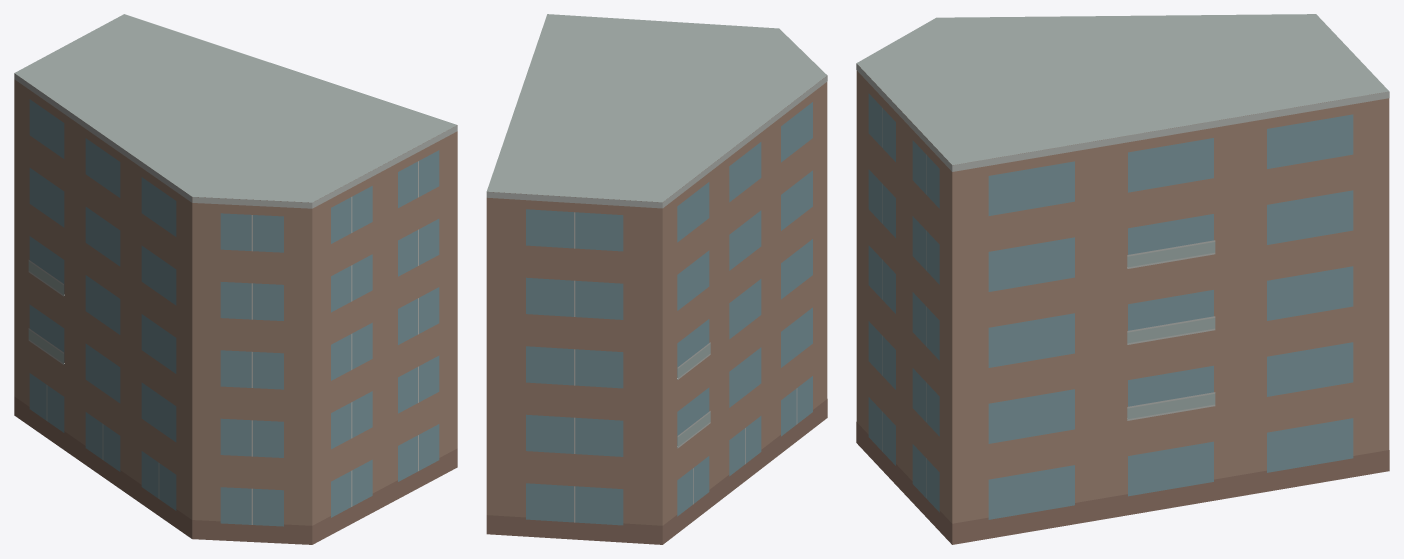
Rendered from survey-upis-32970185.glb.
3 renders of one model, left to right at view 1: azimuth 30°, elevation 25°; view 2: azimuth 150°, elevation 25°; view 3: azimuth 270°, elevation 25°, orthographic. The views are drawn at different scales.
Visible parts, largest first — view 1: survey-upis-32970185.tmp; view 2: survey-upis-32970185.tmp; view 3: survey-upis-32970185.tmp.
Part boxes in pixels (<box>): survey-upis-32970185.tmp: <box>14,14,457,544</box>; survey-upis-32970185.tmp: <box>486,14,827,544</box>; survey-upis-32970185.tmp: <box>856,14,1389,544</box>.
Size of the model in its own units: 11.72 by 13.7 by 17.44.
